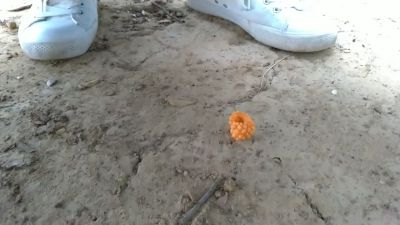eggs: (229, 109, 254, 142)
